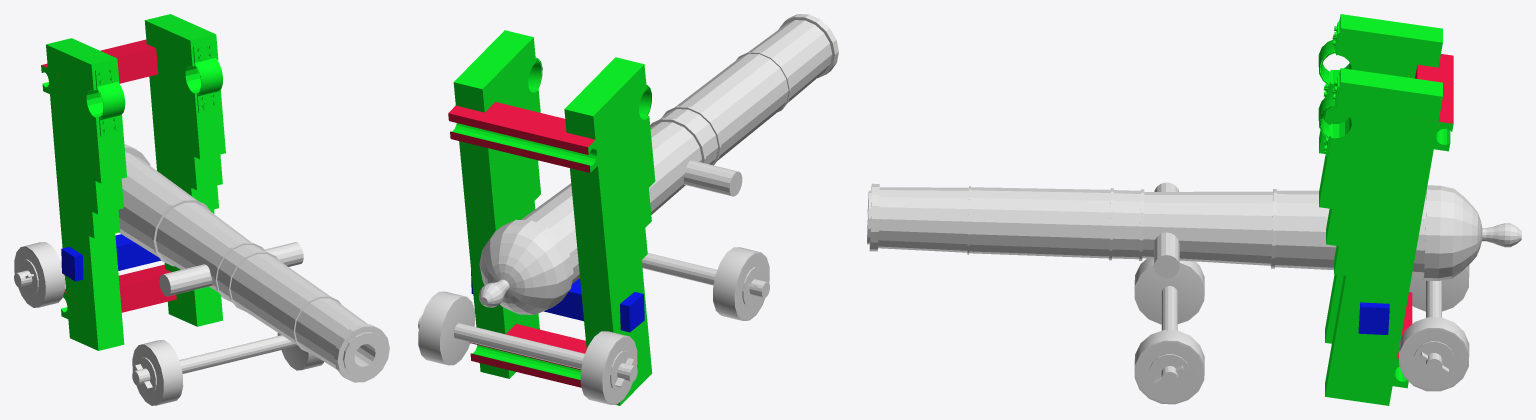
3 renders of one model, left to right at view 1: azimuth 30°, elevation 25°; view 2: azimuth 150°, elevation 25°; view 3: azimuth 270°, elevation 25°, orthographic. The views are drawn at different scales.
Parts seen in each view (by area): view 1: Base, Gun, Wheel; view 2: Base, Gun, Wheel; view 3: Gun, Base, Wheel.
Boxes of the visible parts, x1,y1,x2,y2 form: Base: [41, 14, 225, 350]; Gun: [118, 144, 389, 382]; Wheel: [14, 242, 323, 405]; Base: [448, 30, 655, 405]; Gun: [479, 14, 838, 314]; Wheel: [418, 247, 769, 404]; Gun: [867, 182, 1521, 280]; Base: [1318, 14, 1453, 405]; Wheel: [1134, 258, 1469, 404].
Bounding box in the file's own units: 854 × 1249 × 2289.
